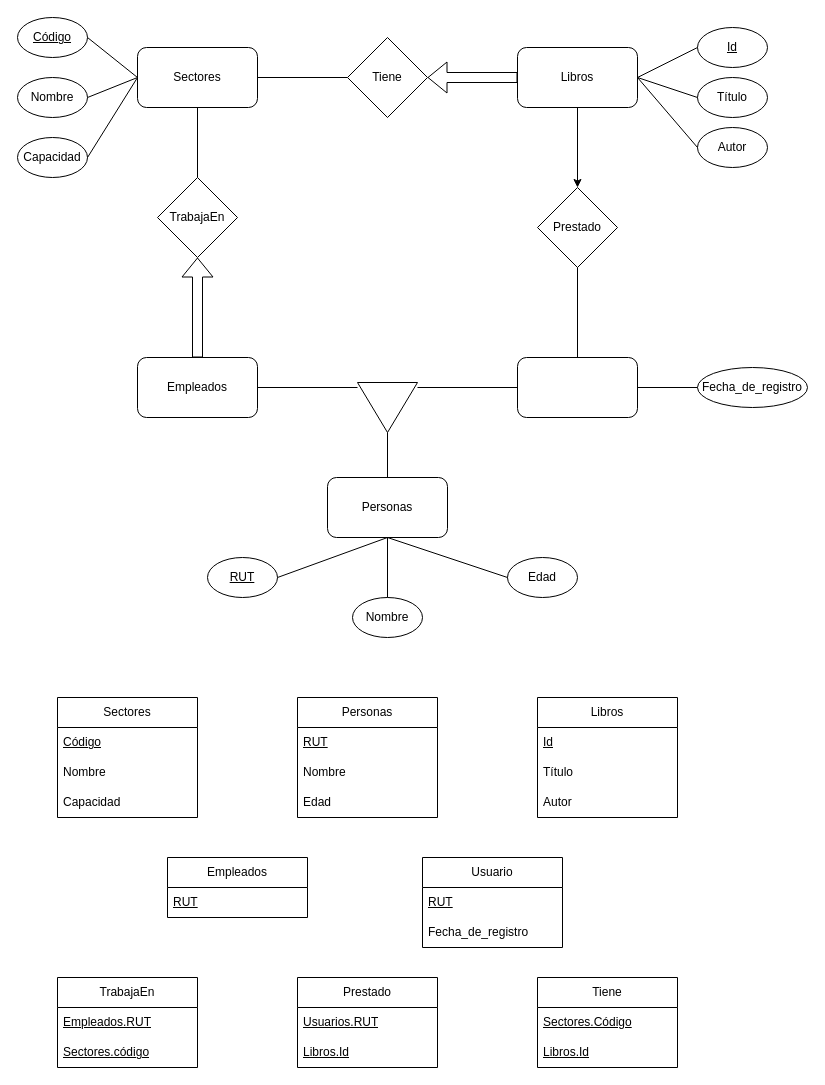
Some shapes in this 825 by 1085 pixel diagram are drawn without their labels. Here are the shapes that lost their labels. From the top down, the centre of each, then its label:
the point at 387,407: IsA
the point at 577,387: Usuarios
